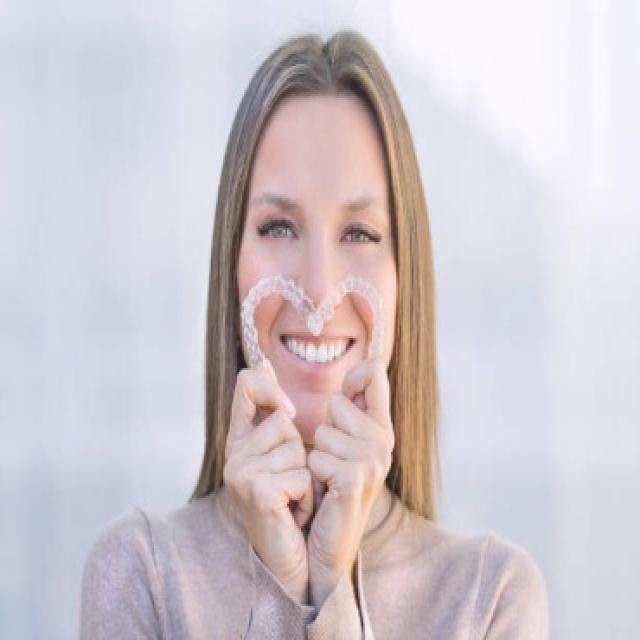adult: (64, 30, 554, 640)
